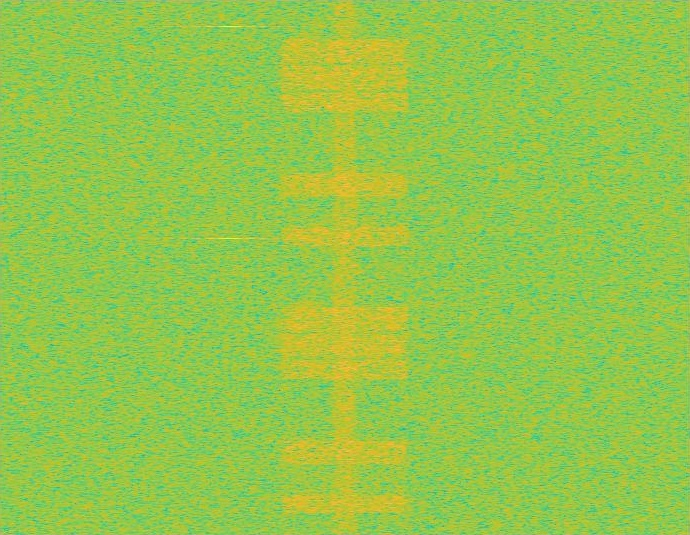DSSS: (329, 0, 361, 534)
LTE: (276, 0, 414, 534)
Radar: (223, 0, 237, 534)
